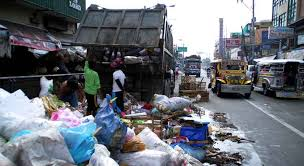garbage: (3, 114, 215, 166), (1, 104, 87, 166), (128, 96, 197, 166)
